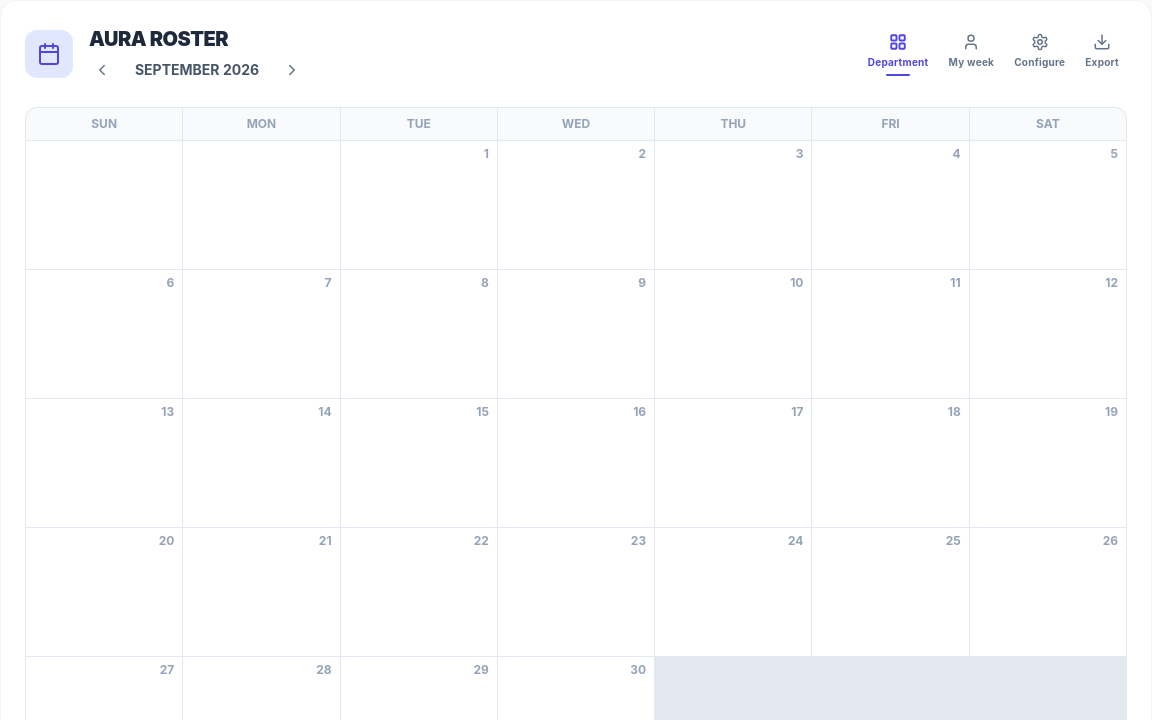
Test: live mode: the same wizard, with the team as its staff › opens on the tasks the department is already running
This screenshot has width=1152, height=720.
Click the button "Configure". click: (1040, 54)
box: [1006,26,1073,82]
(page scrolled)
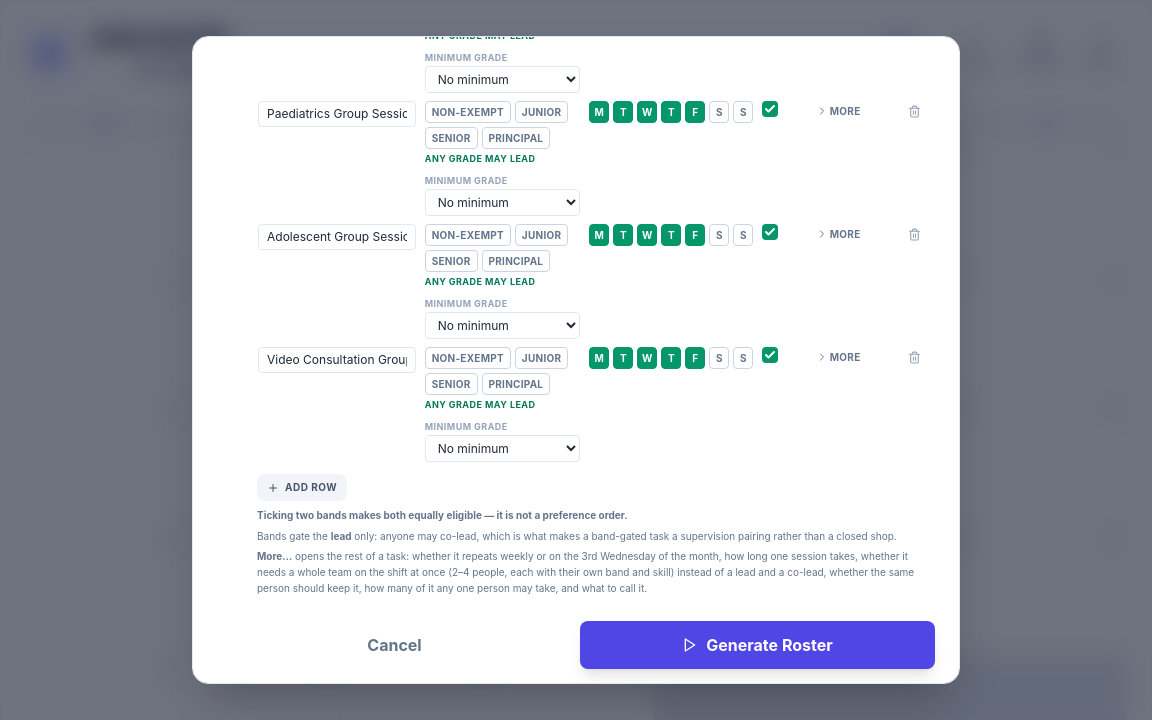
Check: the field showing "Paediatrics Group Session" is shown, box [258,101,416,127]
Check: the field showing "Adolescent Group Session" is shown, box [258,224,416,250]
Check: the field showing "Video Consultation Group" is shown, box [258,347,416,373]
